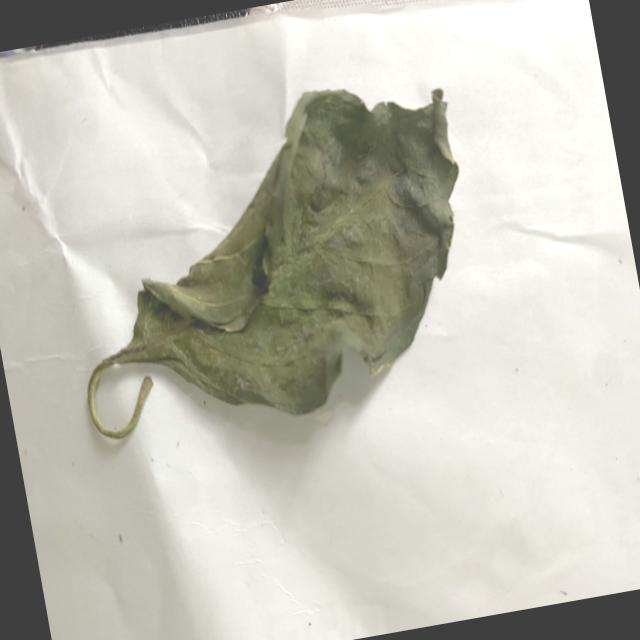Leaf: (94, 67, 497, 446)
